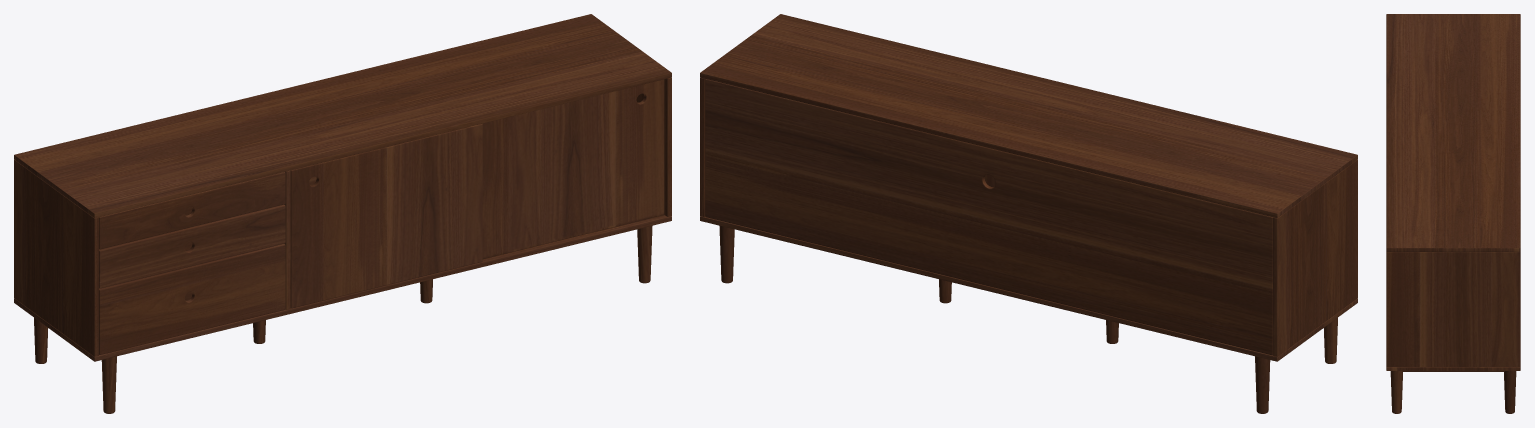
Rendered from console.glb.
3 views of the same model, side by side, from view 1: azimuth 30°, elevation 25°; view 2: azimuth 150°, elevation 25°; view 3: azimuth 270°, elevation 25° (orthographic). The views are drawn at different scales.
Visible parts, largest first — view 1: Xti_UAh1182A2D385ED4BB7_low; view 2: Xti_UAh1182A2D385ED4BB7_low; view 3: Xti_UAh1182A2D385ED4BB7_low.
Part boxes in pixels (box(x1,y1,x2,y2)): Xti_UAh1182A2D385ED4BB7_low: box(14, 14, 671, 413); Xti_UAh1182A2D385ED4BB7_low: box(700, 14, 1357, 413); Xti_UAh1182A2D385ED4BB7_low: box(1386, 14, 1520, 413).
Size of the model in its own units: 1.86 by 0.64 by 0.45.
1 material, 1 textured.
